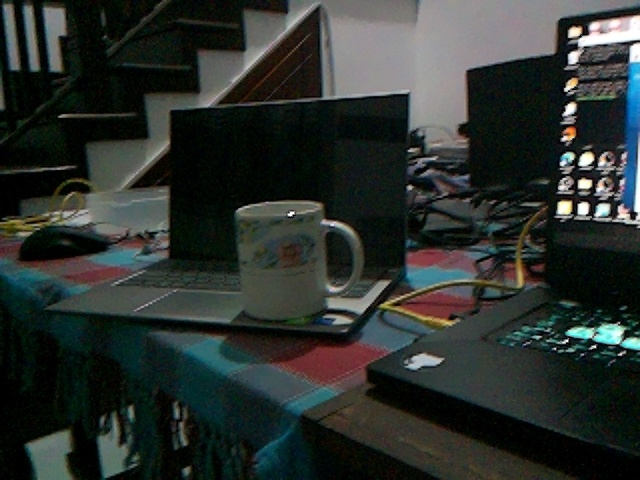mug: (231, 200, 365, 322)
